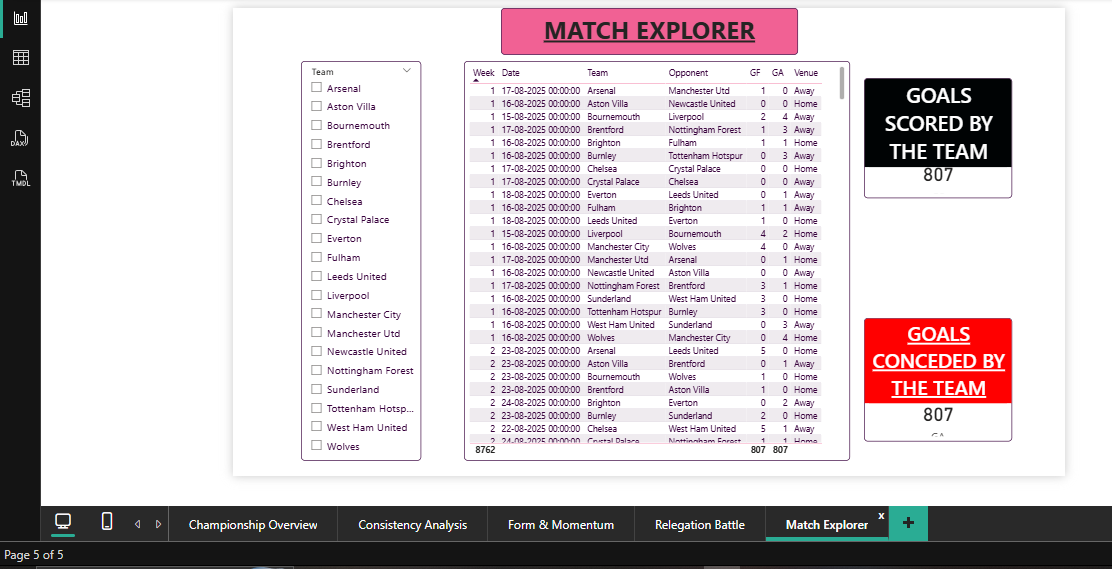

The page's visual inventory and layout, read from the dashboard file:
{"tool":"powerbi","page":{"name":"Match Explorer","canvas":[1280,720],"ordinal":4},"visuals":[{"type":"slicer","fields":{"Values":["All_Matches.Team"]},"box":[104.6,81.5,184.6,615.4],"z":0},{"type":"tableEx","fields":{"Values":["Sum(All_Matches.Wk)","All_Matches.Date","All_Matches.Team","All_Matches.Opponent","Sum(All_Matches.GF)","Sum(All_Matches.GA)","All_Matches.Venue"]},"box":[355.4,81.5,593.8,615.4],"z":1000},{"type":"card","title":"GOALS SCORED BY THE TEAM","fields":{"Values":["Sum(All_Matches.GF)"]},"box":[970,108.3,228.3,185],"z":2000},{"type":"card","title":"GOALS CONCEDED BY THE TEAM","fields":{"Values":["Sum(All_Matches.GA)"]},"box":[970,476.7,228.3,190],"z":3000},{"type":"textbox","box":[411.7,0,456.7,71.7],"z":4000}]}

Visuals, with their boxes on the page's 1280x720 design canvas (x1, y1, x2, y2). These are canvas units, not pixel positions in the 1112x569 screenshot, which may show the page scaled, cropped or inside an application window:
slicer - All_Matches.Team: [x1=105, y1=82, x2=289, y2=697]
tableEx - Sum(All_Matches.Wk) x All_Matches.Date: [x1=355, y1=82, x2=949, y2=697]
"GOALS SCORED BY THE TEAM" card: [x1=970, y1=108, x2=1198, y2=293]
"GOALS CONCEDED BY THE TEAM" card: [x1=970, y1=477, x2=1198, y2=667]
textbox: [x1=412, y1=0, x2=868, y2=72]
